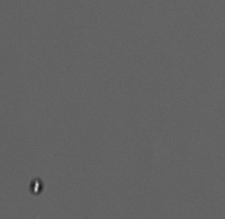Dead Cell: (28, 177, 46, 195)
